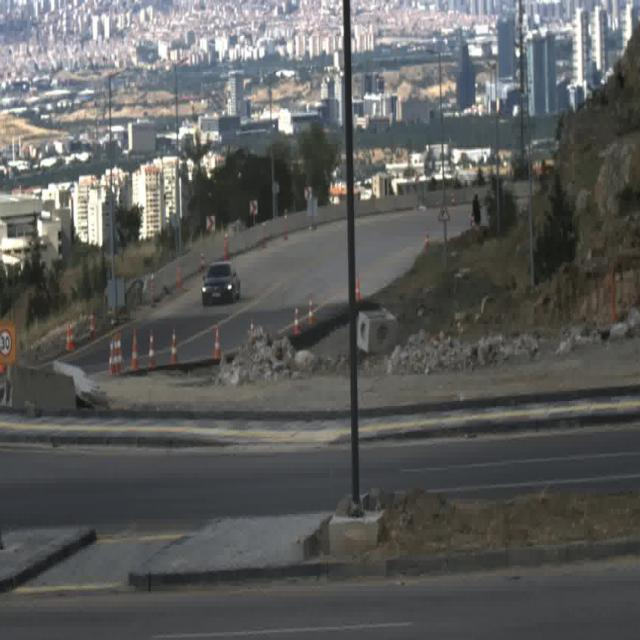Car: (204, 259, 242, 305)
Motorcycle: (471, 190, 484, 228)
